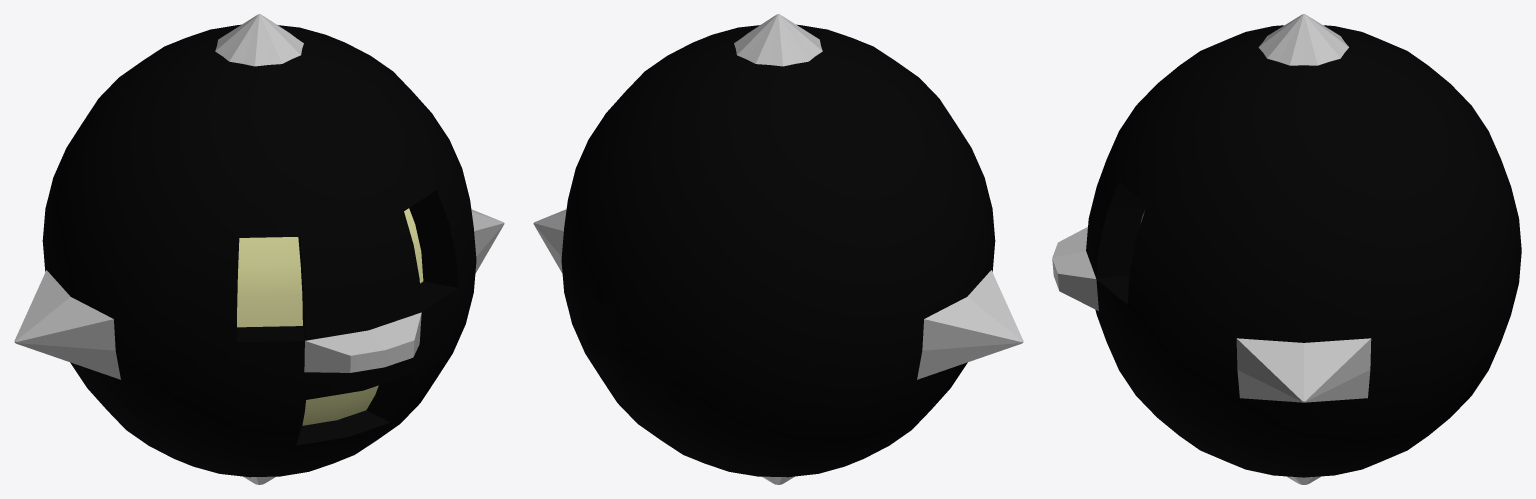
Rendered from Enemy.fbx.
3 renders of one model, left to right at view 1: azimuth 30°, elevation 25°; view 2: azimuth 150°, elevation 25°; view 3: azimuth 270°, elevation 25°, orthographic.
Parts seen in each view (by area): view 1: pSphere1; view 2: pSphere1; view 3: pSphere1.
Part boxes in pixels (box(x1,y1,x2,y2)): pSphere1: box(14, 14, 504, 484); pSphere1: box(533, 14, 1023, 484); pSphere1: box(1052, 14, 1521, 484).
Bounding box in the file's own units: 4.08 × 3.73 × 3.39.
